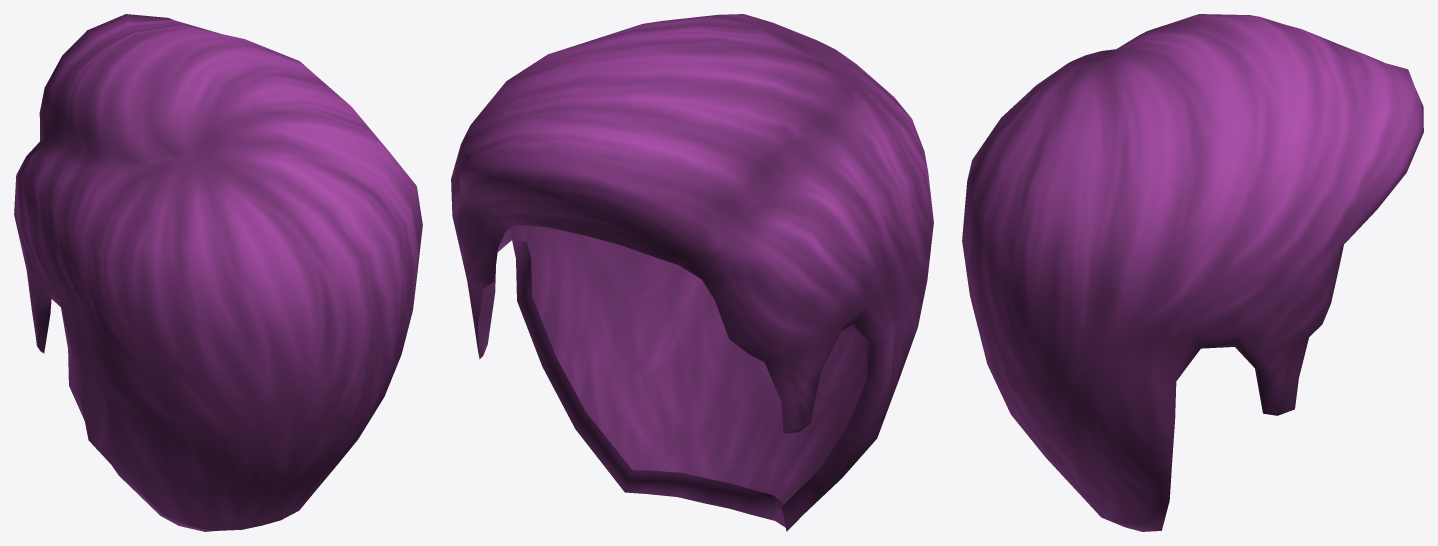
File: Hair_Male_002_textured_purple.glb
3 renders of one model, left to right at view 1: azimuth 30°, elevation 25°; view 2: azimuth 150°, elevation 25°; view 3: azimuth 270°, elevation 25°, orthographic. The views are drawn at different scales.
Parts seen in each view (by area): view 1: Hair_Male_002; view 2: Hair_Male_002; view 3: Hair_Male_002.
Boxes of the visible parts, x1=… form: Hair_Male_002: x1=14, y1=14, x2=422, y2=531; Hair_Male_002: x1=451, y1=14, x2=933, y2=531; Hair_Male_002: x1=962, y1=14, x2=1423, y2=531.
Size of the model in its own units: 0.1882 by 0.2415 by 0.2192.
1 material, 1 textured.
